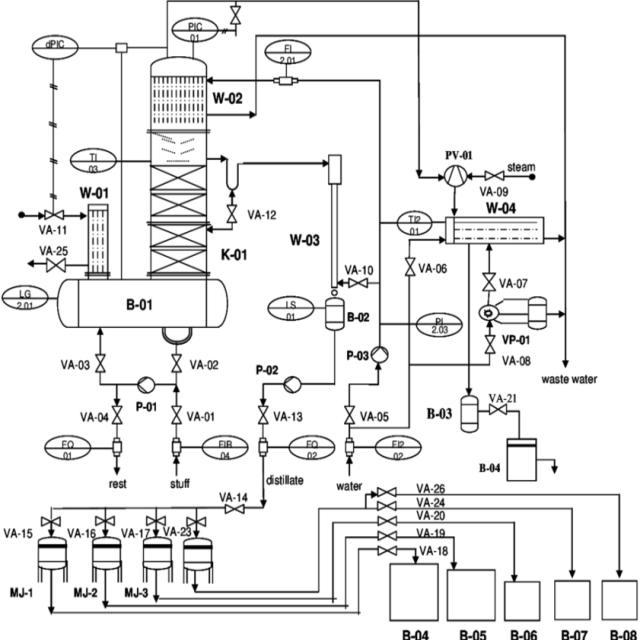Gate Valve: (226, 4, 250, 28), (344, 276, 374, 293), (45, 255, 68, 276), (479, 270, 498, 294), (93, 351, 111, 376), (486, 402, 511, 420), (42, 206, 70, 222), (403, 252, 419, 280), (483, 331, 500, 357), (168, 352, 187, 374), (339, 403, 357, 425), (110, 404, 126, 428), (224, 502, 248, 518), (376, 528, 400, 544), (377, 483, 398, 501), (168, 404, 185, 426), (226, 203, 242, 226), (482, 168, 508, 182), (256, 404, 270, 428), (378, 542, 398, 558), (376, 514, 400, 527), (376, 501, 399, 512)
Needle Valve: (181, 509, 211, 537), (92, 510, 120, 536), (38, 512, 63, 535), (144, 512, 166, 537)
